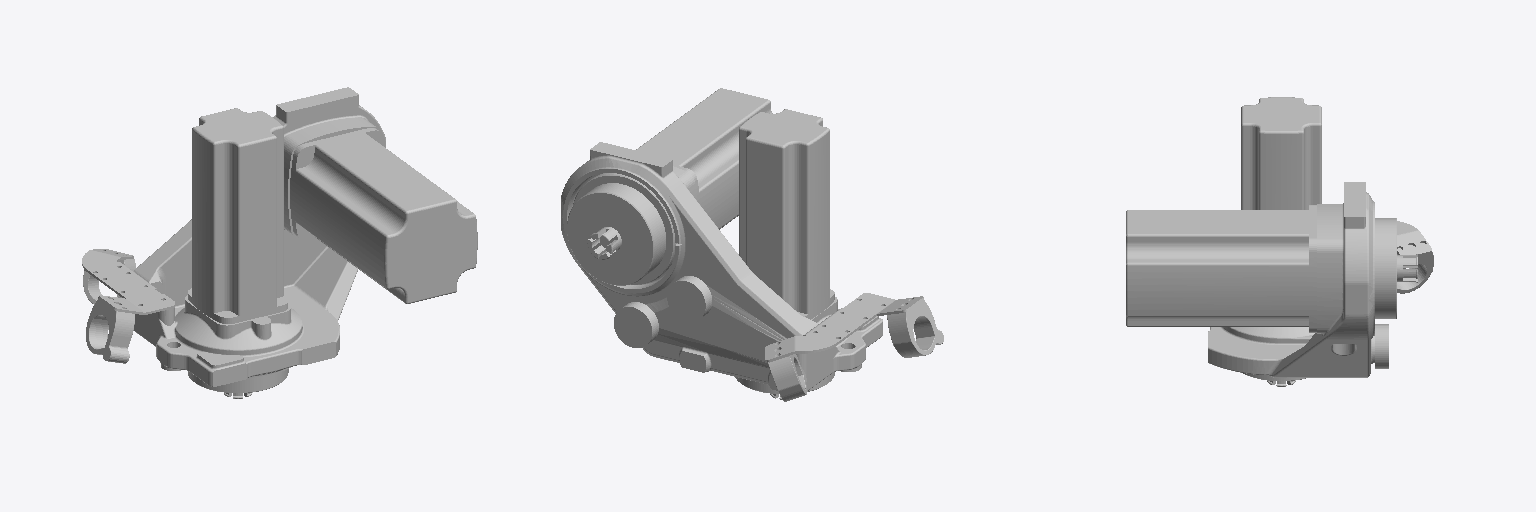
The model's file is transform_1.obj.
3 renders of one model, left to right at view 1: azimuth 30°, elevation 25°; view 2: azimuth 150°, elevation 25°; view 3: azimuth 270°, elevation 25°, orthographic.
Parts seen in each view (by area): view 1: 0, 3, 1, 2; view 2: 0, 3, 1, 2; view 3: 0, 3, 1, 2.
Part boxes in pixels (x1,y1,x2,y2): 0: (83, 108, 477, 398); 3: (133, 95, 385, 386); 1: (82, 249, 174, 314); 2: (151, 87, 380, 365); 0: (567, 88, 943, 401); 3: (561, 150, 882, 390); 1: (765, 293, 923, 361); 2: (563, 142, 877, 348); 0: (1126, 97, 1433, 386); 3: (1208, 192, 1374, 377); 1: (1397, 221, 1431, 255); 2: (1344, 182, 1365, 216).
Bounding box in the file's own units: 421 × 329 × 345.